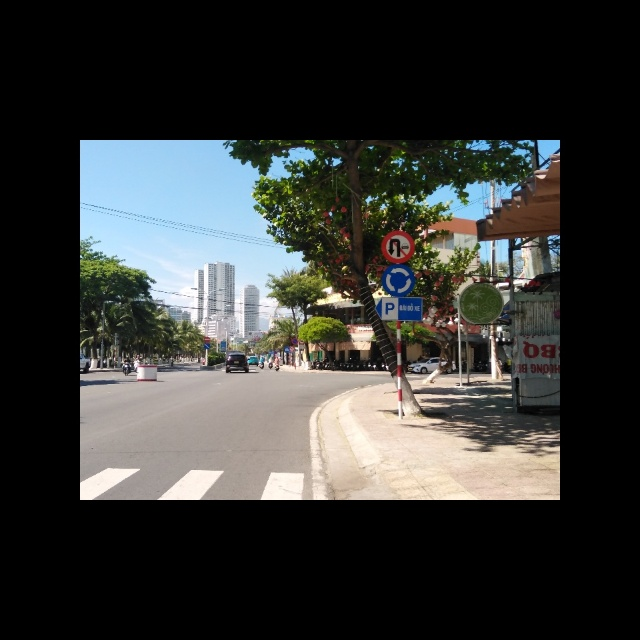Cấm xe ô tô quay đầu: (382, 230, 415, 263)
Nơi giao nhau chạy theo vòng xuyến: (382, 264, 415, 296)
Nơi đỗ xe: (373, 297, 423, 321)
